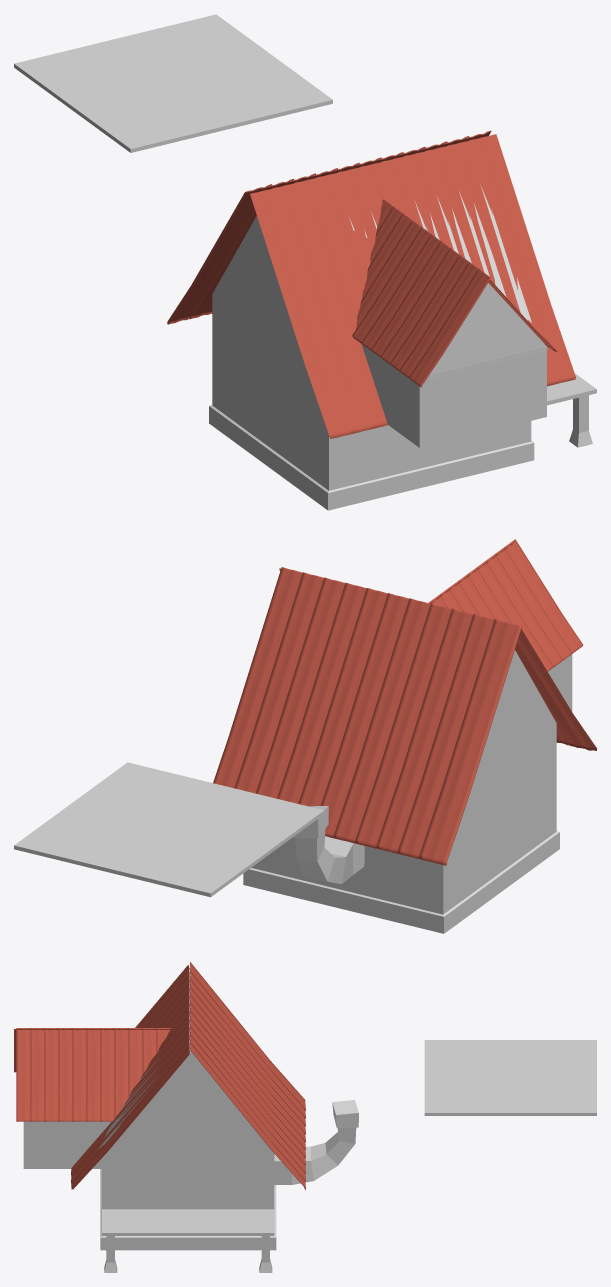
File: DruidHouseV2.fbx
3 views of the same model, one above another, from view 1: azimuth 30°, elevation 25°; view 2: azimuth 150°, elevation 25°; view 3: azimuth 270°, elevation 25° (orthographic). The views are drawn at different scales.
Parts seen in each view (by area): view 1: Roof, Cube.008, Cube.003, Roof.003, Cube.006, Cube.001, Cube.002, Cube.007, Roof.001, Cube; view 2: Roof.001, Cube.008, Cube.003, Cube.001, Roof.003, Cube.002, Cube.005, Roof, Cube.006; view 3: Cube.001, Cube.008, Roof.002, Roof.001, Cube.002, Roof, Cube.006, Cube.005, Cube.003.
Boxes of the visible parts, x1,y1,x2,y2 form: Roof: [250, 134, 575, 438]; Cube.008: [14, 14, 332, 152]; Cube.003: [209, 373, 534, 510]; Roof.003: [352, 199, 490, 387]; Cube.006: [361, 344, 546, 447]; Cube.001: [212, 294, 596, 458]; Cube.002: [212, 185, 531, 360]; Cube.007: [427, 283, 547, 378]; Roof.001: [167, 130, 491, 324]; Cube: [569, 395, 592, 447]; Roof.001: [213, 567, 521, 865]; Cube.008: [14, 762, 324, 897]; Cube.003: [243, 800, 559, 933]; Cube.001: [283, 724, 556, 882]; Roof.003: [428, 539, 582, 671]; Cube.002: [472, 650, 556, 784]; Cube.005: [292, 806, 364, 884]; Roof: [279, 568, 596, 750]; Cube.006: [548, 654, 572, 711]; Cube.001: [102, 1154, 274, 1235]; Cube.008: [424, 1040, 596, 1115]; Roof.002: [16, 1028, 171, 1121]; Roof.001: [190, 962, 305, 1189]; Cube.002: [98, 975, 274, 1154]; Roof: [71, 965, 189, 1189]; Cube.006: [23, 1121, 111, 1168]; Cube.005: [274, 1100, 358, 1184]; Cube.003: [100, 1169, 276, 1250].
Size of the model in its own units: 2887 by 2653 by 6766.
